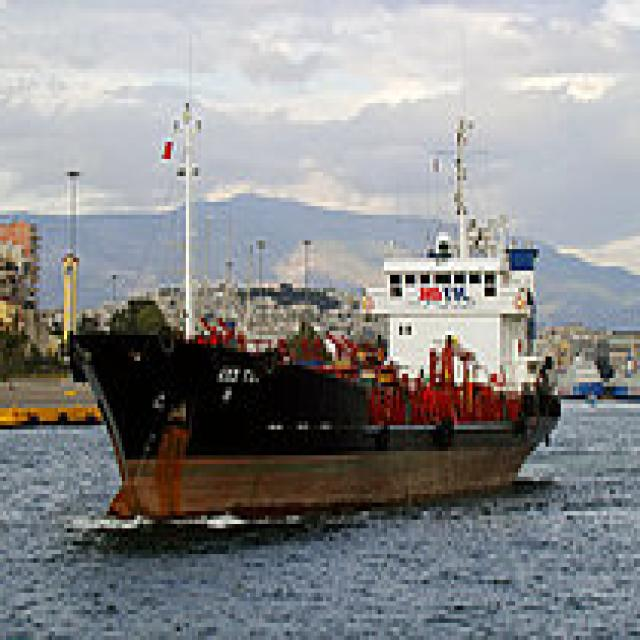Tanker: (73, 95, 564, 511)
